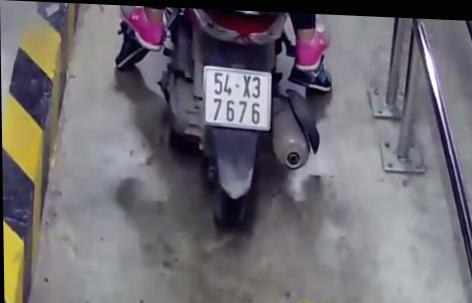License_Plate: (193, 61, 277, 136)
